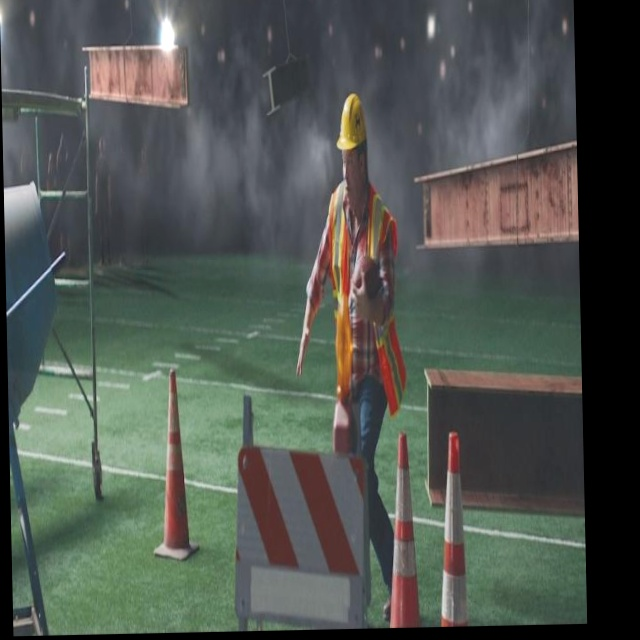Con_Casco: (336, 91, 368, 179)
Con_Chaleco: (328, 181, 398, 385)
